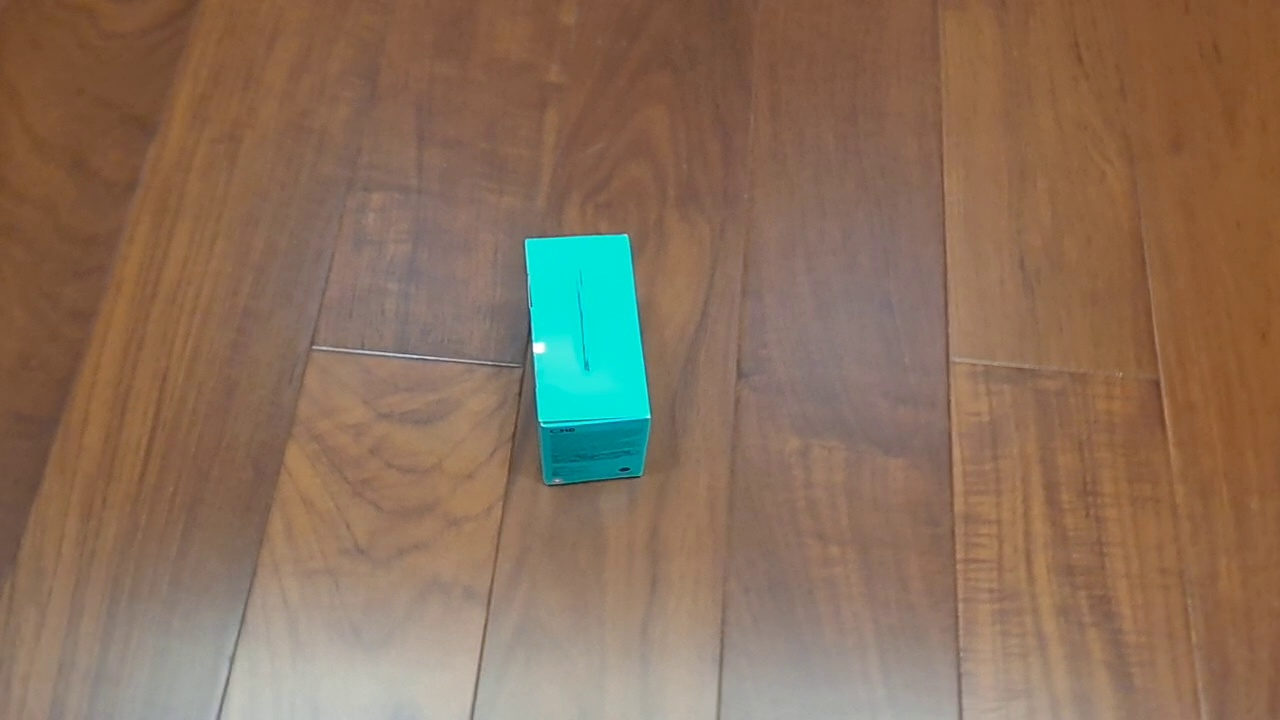webcam: (523, 233, 652, 487)
